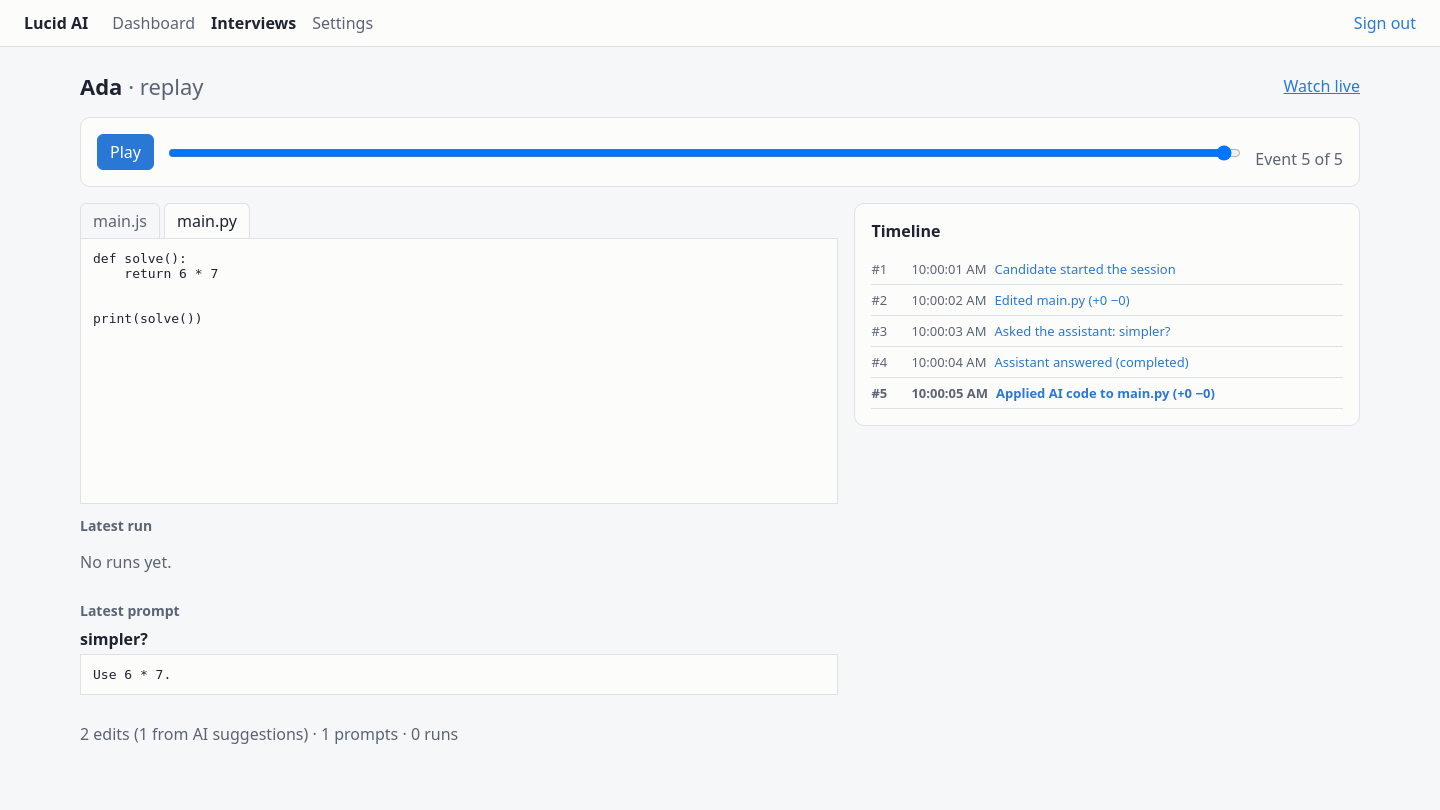
replay › seeks from the timeline and plays to the end
Click the button "Candidate started the session".
click(1085, 269)  # box [994,260,1176,278]
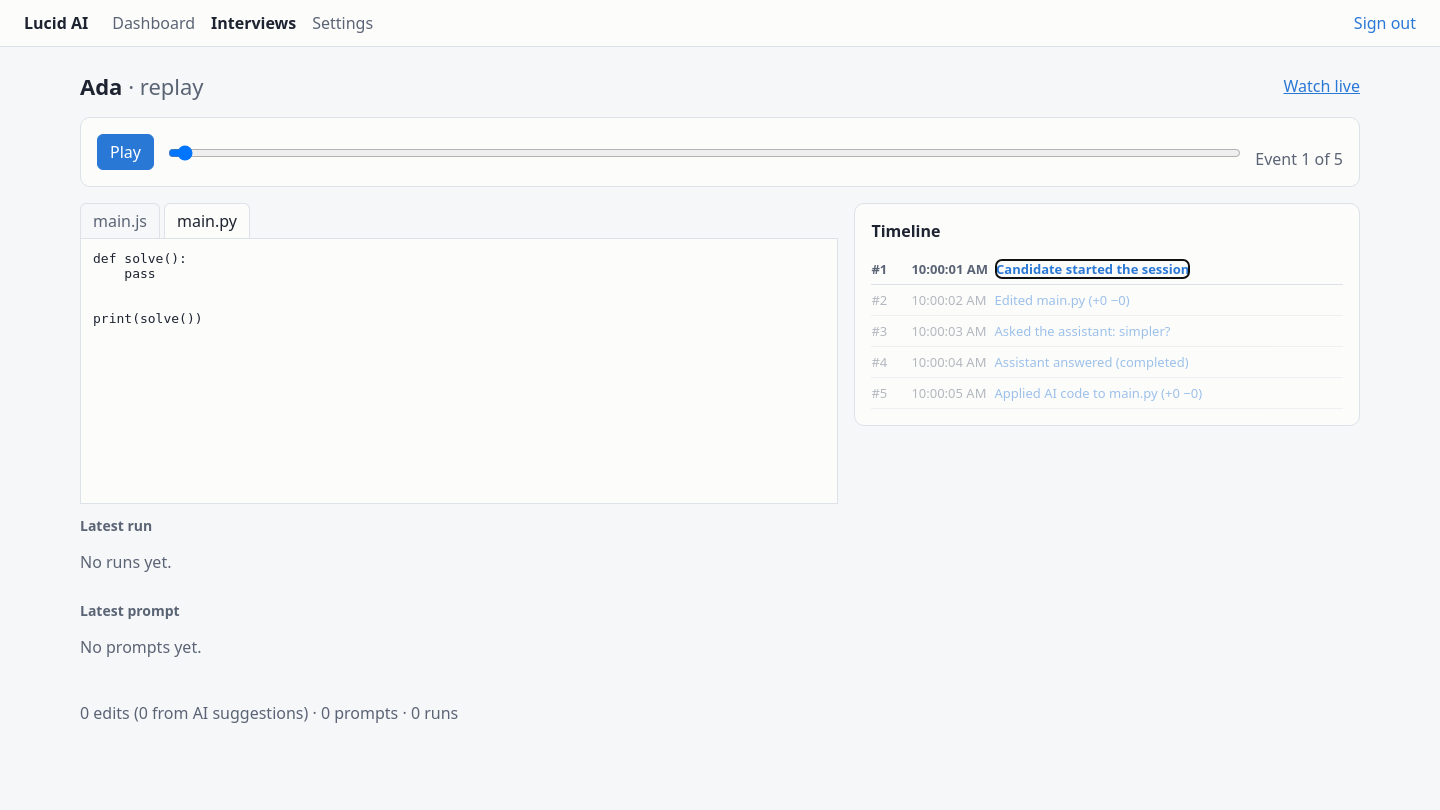
expect the text with test id "position" reads "Event 1 of 5": met, box [1255,148,1343,170]
expect the element with test id "code" shows "pass": met, box [93,251,203,326]
Click the button "Play".
click(126, 152)  # box [97,134,154,170]
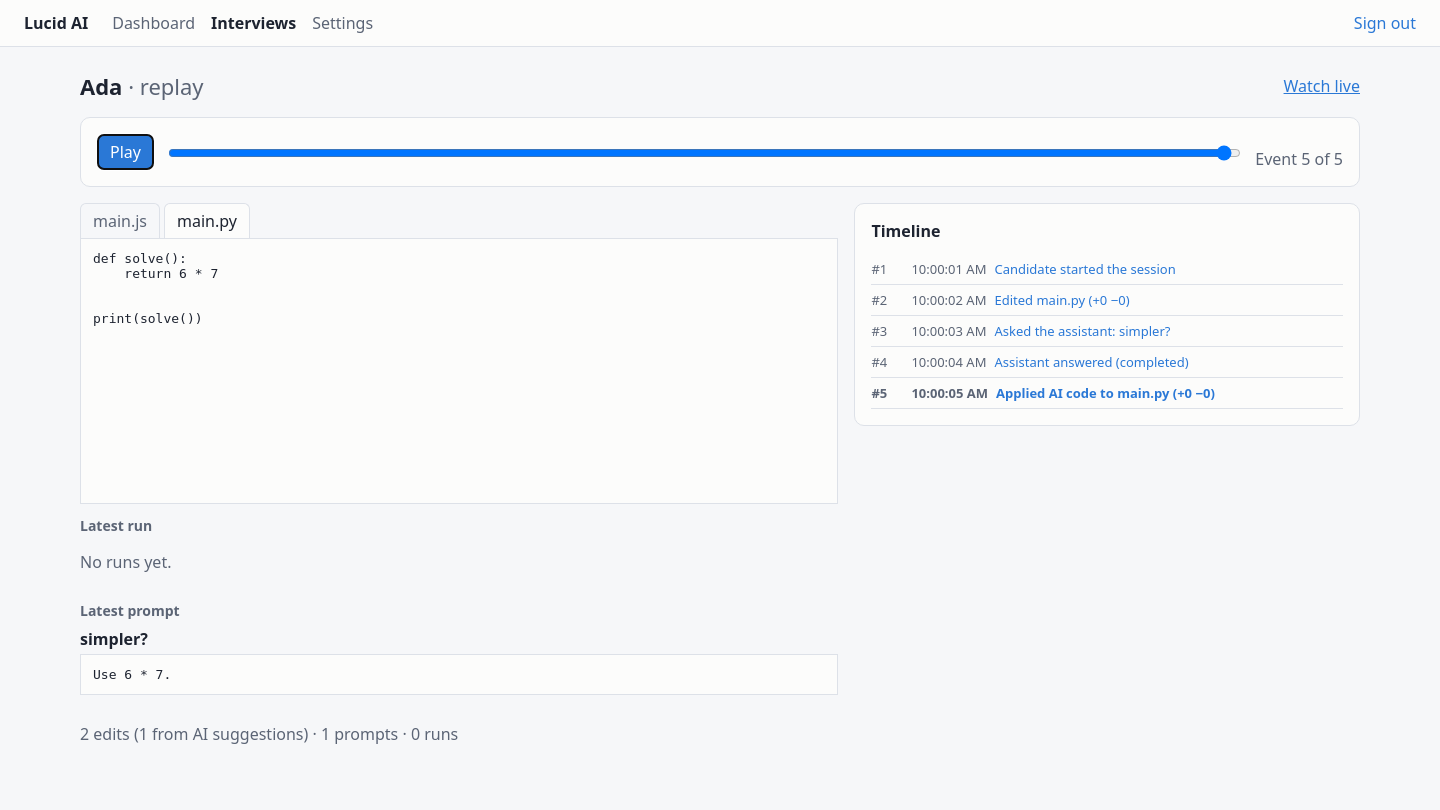
expect the text with test id "position" reads "Event 5 of 5": met, box [1255,148,1343,170]
